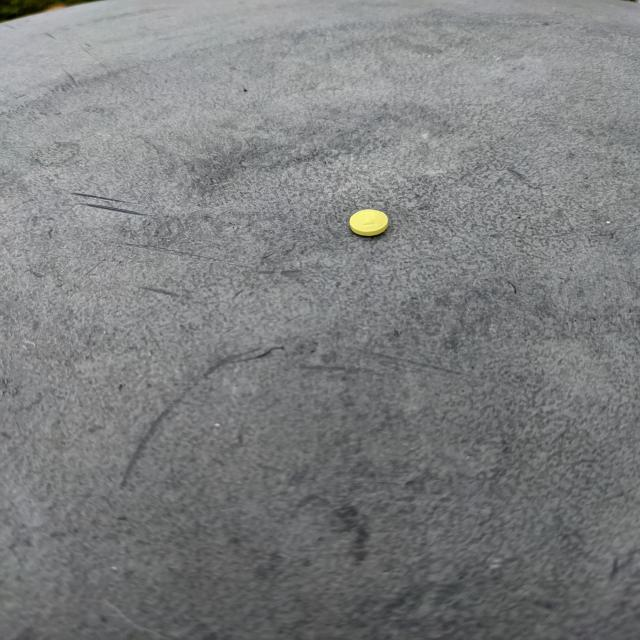non-organic waste: (348, 208, 389, 236)
